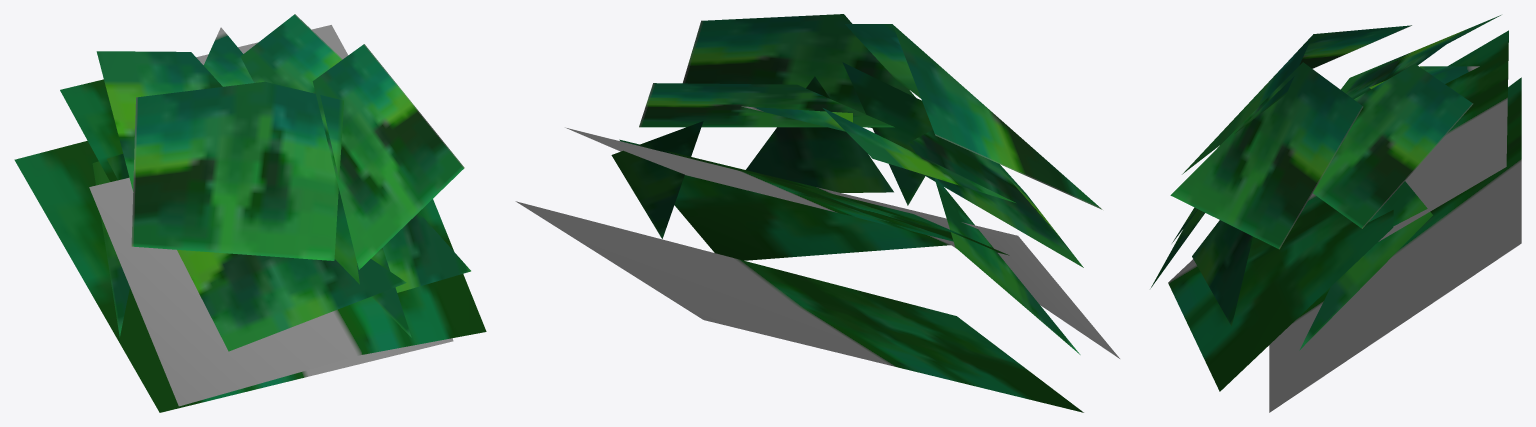
The model's file is fg_bushA_2.dae.
3 views of the same model, side by side, from view 1: azimuth 30°, elevation 25°; view 2: azimuth 150°, elevation 25°; view 3: azimuth 270°, elevation 25° (orthographic). The views are drawn at different scales.
Parts seen in each view (by area): view 1: fg_bushA_2; view 2: fg_bushA_2; view 3: fg_bushA_2.
Part boxes in pixels (x1,y1,x2,y2): fg_bushA_2: (14, 14, 486, 412); fg_bushA_2: (515, 14, 1119, 412); fg_bushA_2: (1150, 15, 1521, 412).
Bounding box in the file's own units: 42.31 × 33.77 × 38.68.
Materials: 1 (1 with a texture image).
